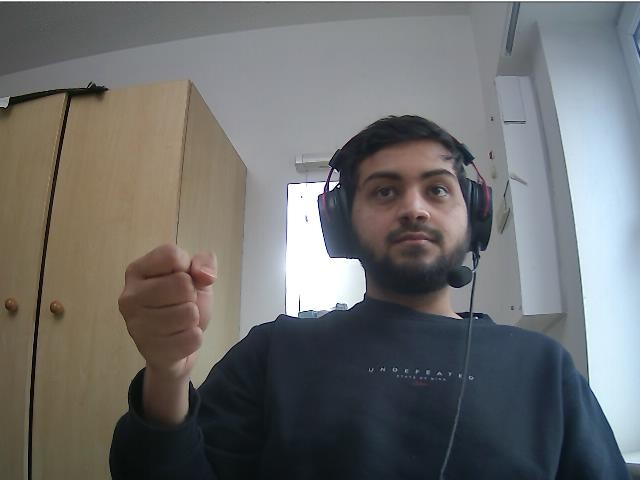hold: (117, 244, 222, 355)
